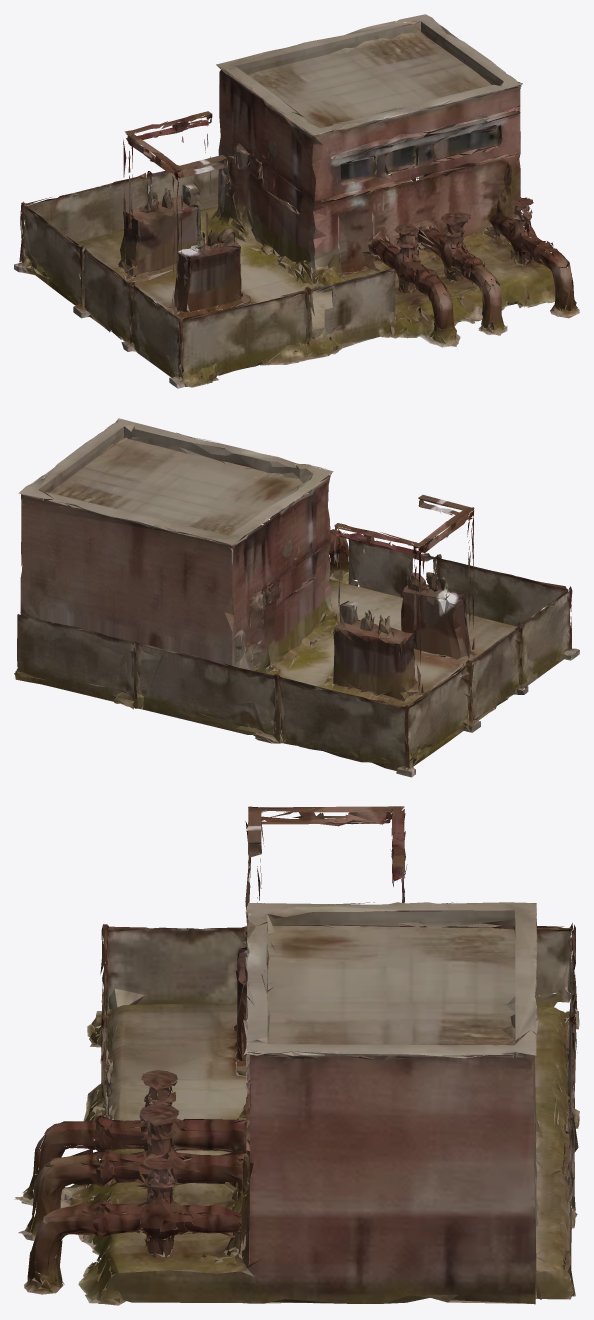
The model's file is building_pump_station.glb.
3 views of the same model, one above another, from view 1: azimuth 30°, elevation 25°; view 2: azimuth 150°, elevation 25°; view 3: azimuth 270°, elevation 25° (orthographic). The views are drawn at different scales.
Parts seen in each view (by area): view 1: building_pump_station; view 2: building_pump_station; view 3: building_pump_station.
Boxes of the visible parts, bbox=[...] form: building_pump_station: bbox=[14, 14, 579, 388]; building_pump_station: bbox=[14, 418, 579, 777]; building_pump_station: bbox=[14, 806, 579, 1305].
Size of the model in its own units: 17.94 by 7.5 by 14.94.
Materials: 1 (1 with a texture image).
